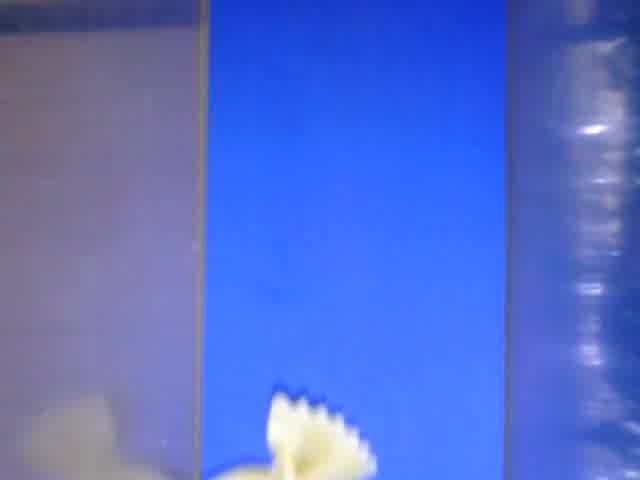farfalle: (208, 391, 379, 480)
